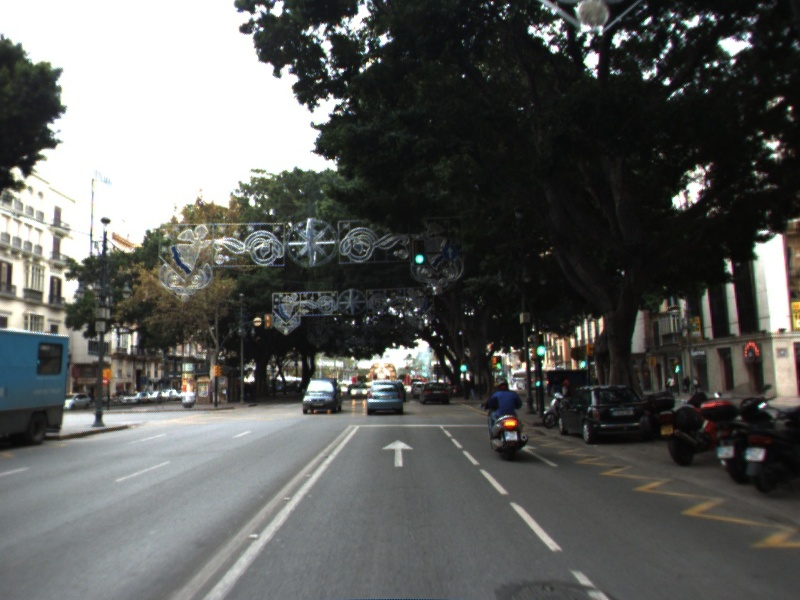STRAIGHT: (380, 438, 416, 469), (518, 443, 560, 468)
